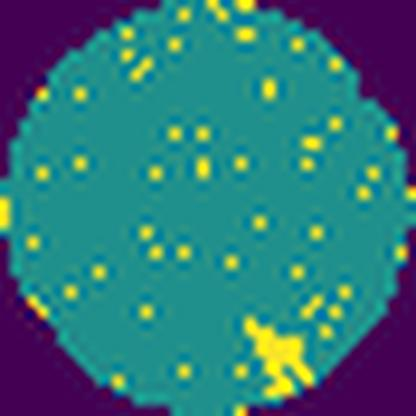Loc: (239, 312, 317, 400)
